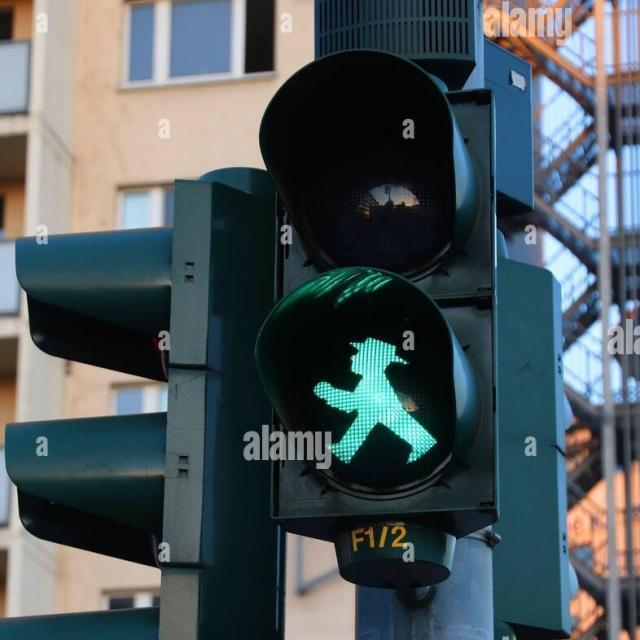geen-crossing: (329, 336, 407, 464)
